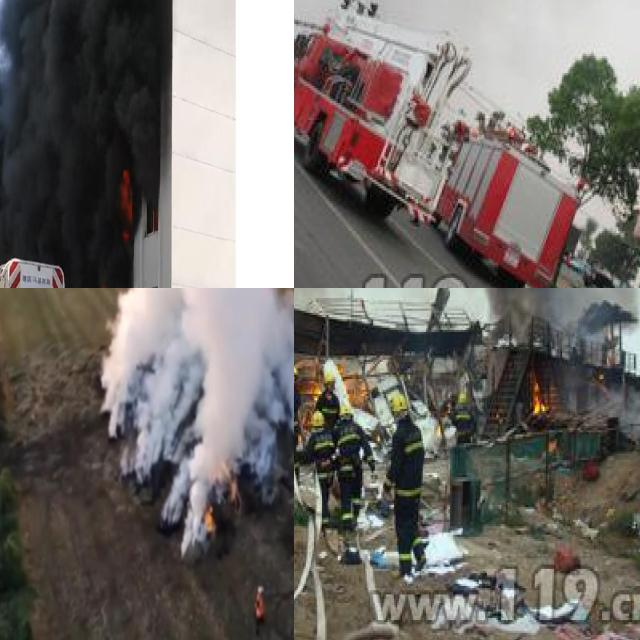fire: (118, 170, 135, 240), (526, 373, 548, 415), (201, 502, 216, 534), (308, 377, 320, 396)
smoke: (96, 288, 294, 546), (0, 0, 170, 288)
